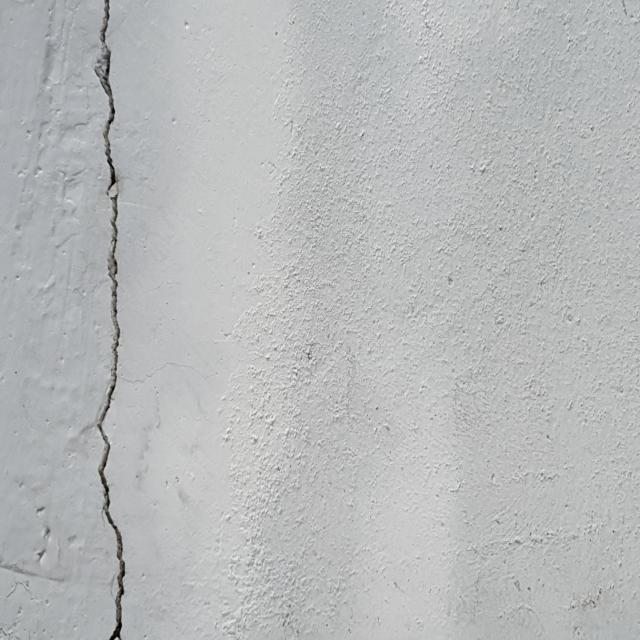SurfaceCrack: (42, 1, 177, 640)
